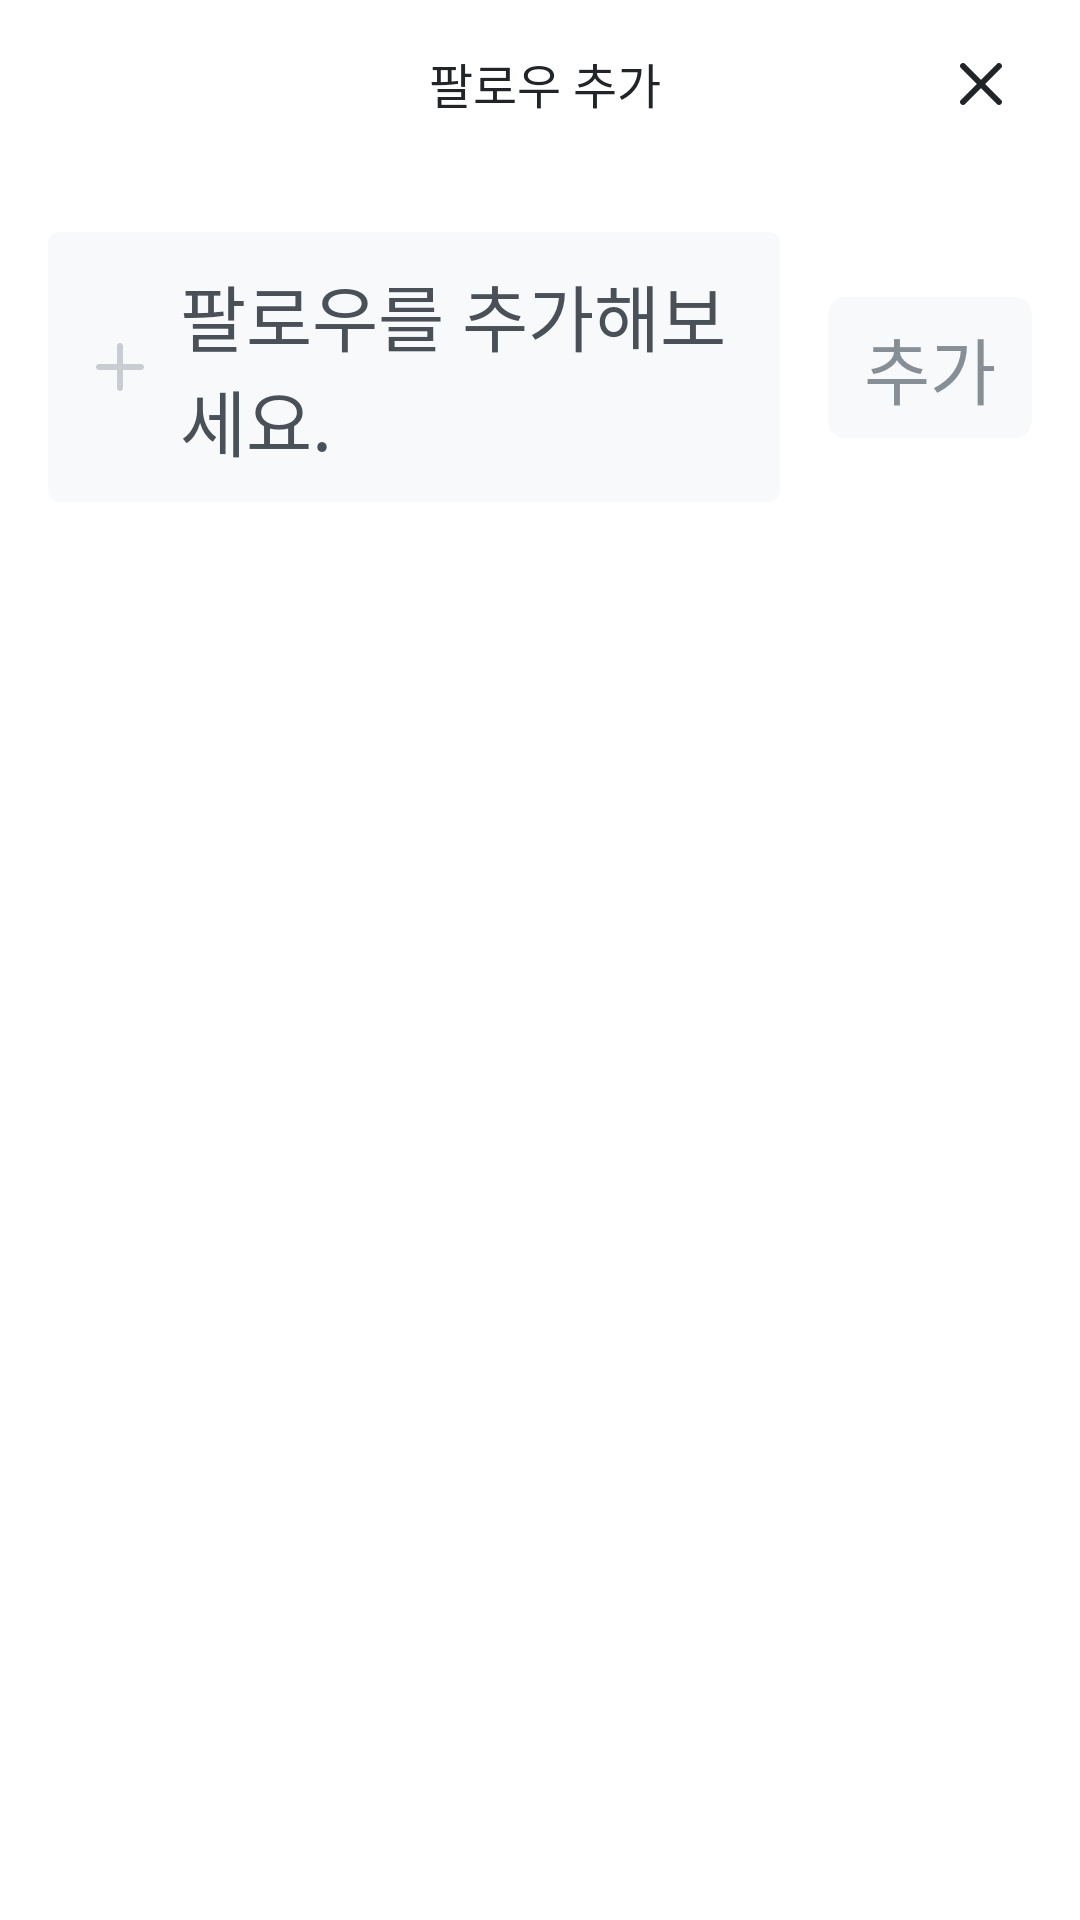

Icon click points for this 1080×1920 phone screenshot, format (x,y):
취소 아이콘: (981,84)
